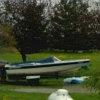Boat: (4, 51, 95, 87)
